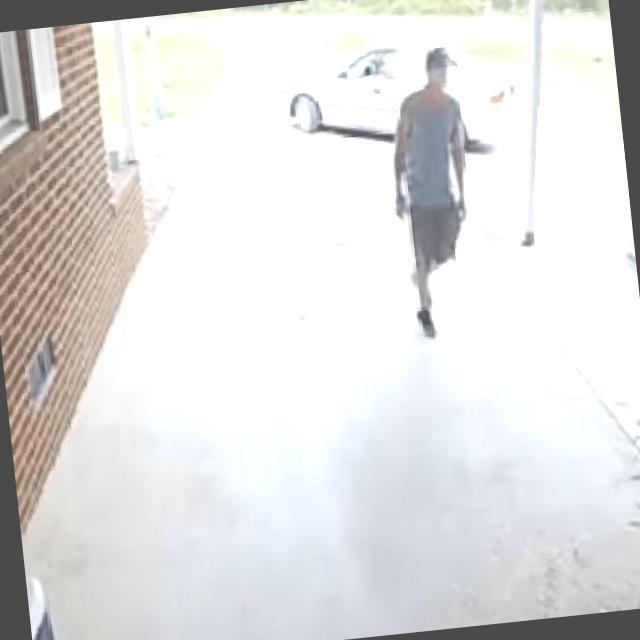Person: (379, 34, 490, 341)
